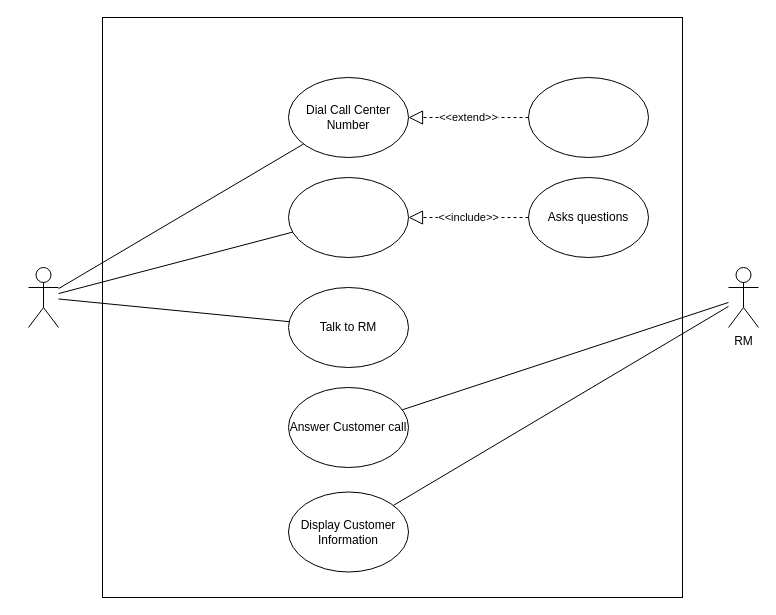
Some shapes in this 776 by 615 pixel diagram are drawn without their labels. Here are the shapes that lost their labels. From the top down, the box of each, then its label:
(528, 76, 648, 158): Calculate Score
(288, 176, 408, 258): Answer AVR Questions
(28, 266, 58, 328): Customer
